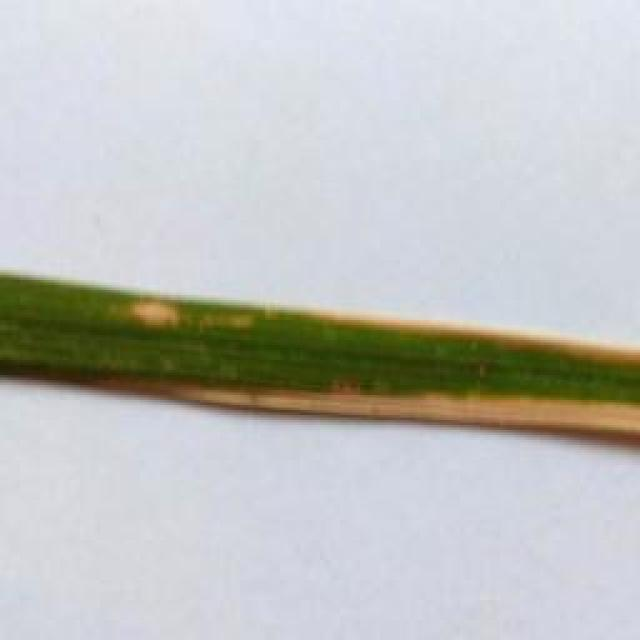Unhealthy: (95, 377, 640, 433), (304, 313, 640, 370), (121, 300, 182, 330)
